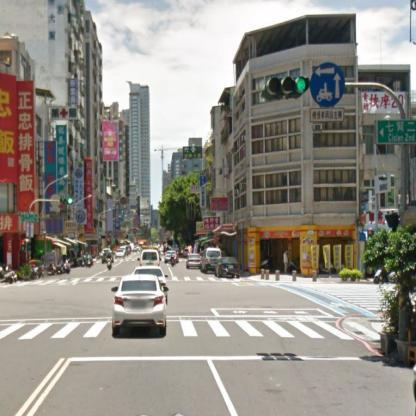Green Light: (262, 75, 309, 99), (59, 196, 75, 205)
